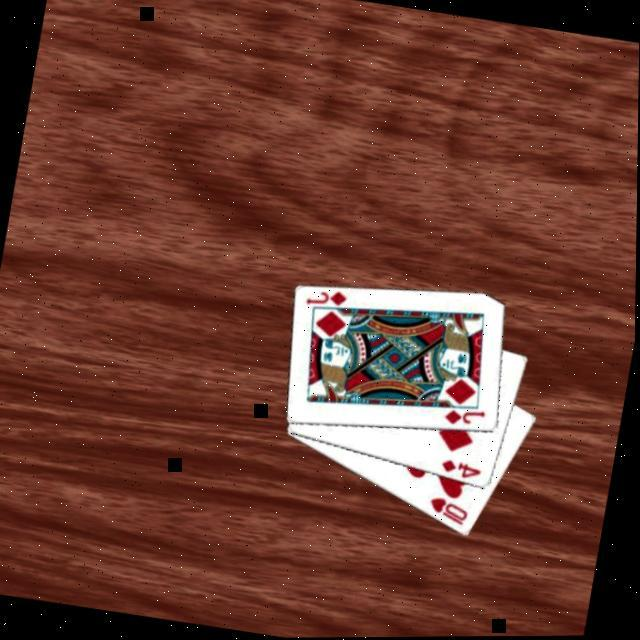10H: (428, 494, 476, 532)
4D: (440, 458, 489, 485)
JD: (443, 404, 491, 435), (306, 286, 354, 315)
